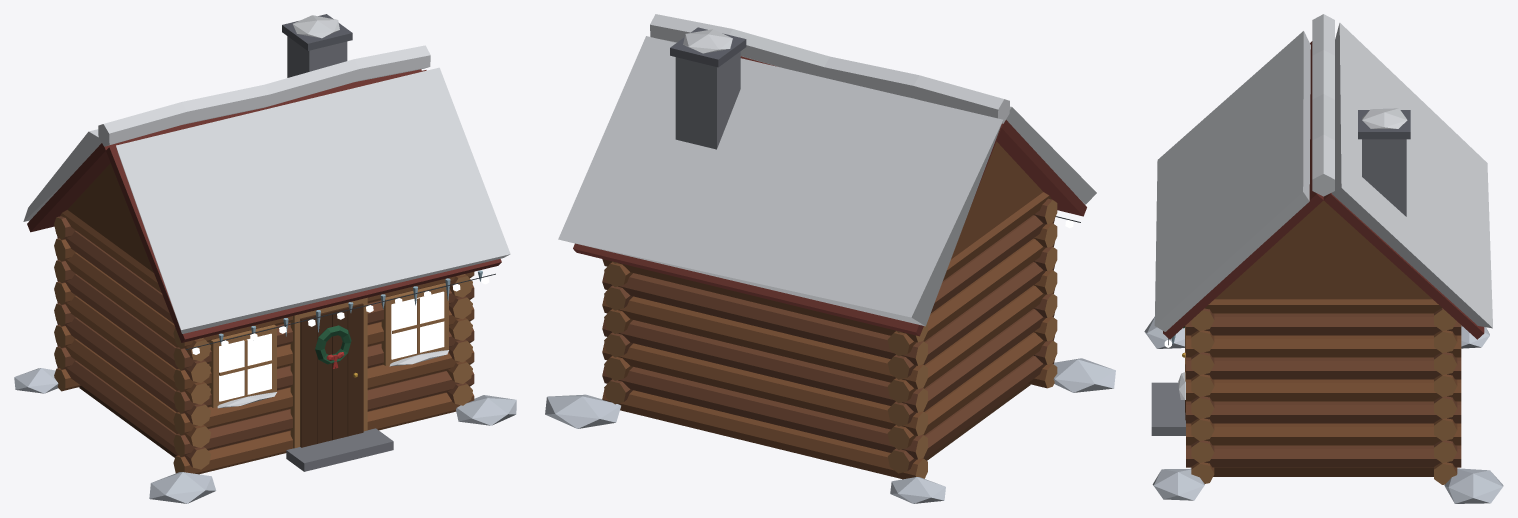
The model's file is log-cabin.glb.
3 views of the same model, side by side, from view 1: azimuth 30°, elevation 25°; view 2: azimuth 150°, elevation 25°; view 3: azimuth 270°, elevation 25° (orthographic). The views are drawn at different scales.
Parts seen in each view (by area): view 1: log-cabin; view 2: log-cabin; view 3: log-cabin.
Boxes of the visible parts, <box> form: log-cabin: <box>14,14,516,503</box>; log-cabin: <box>545,14,1115,503</box>; log-cabin: <box>1144,14,1503,503</box>.
Size of the model in its own units: 5.46 by 4.67 by 4.44.
